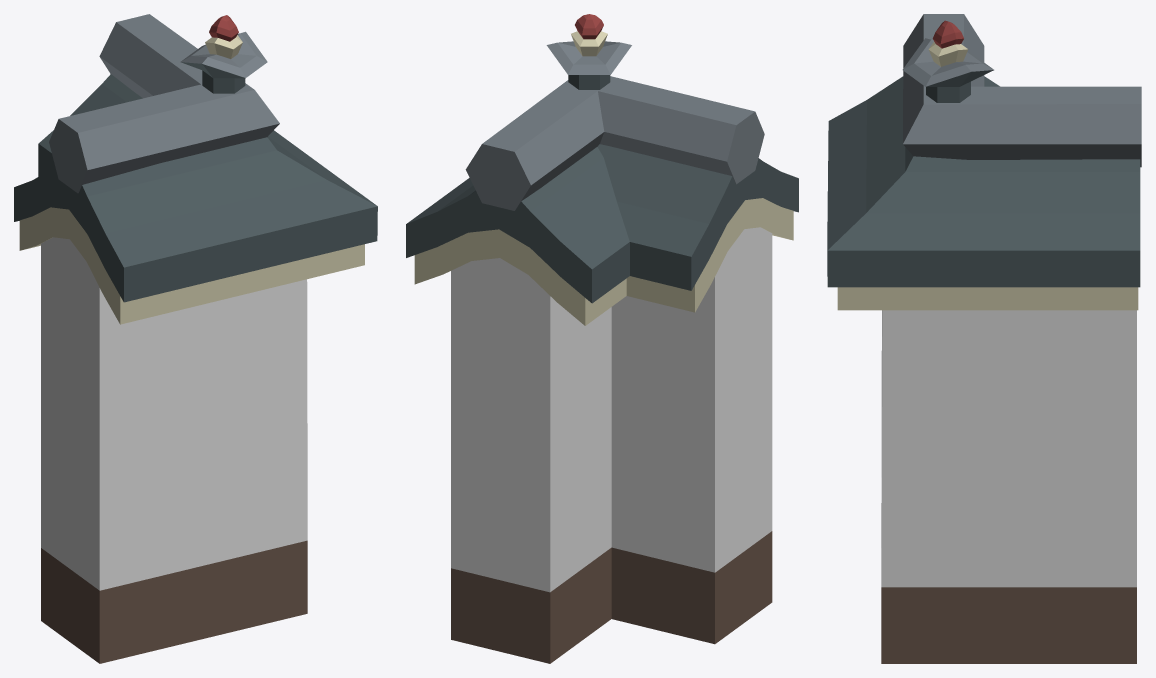
Rendered from corner-wall.glb.
3 views of the same model, side by side, from view 1: azimuth 30°, elevation 25°; view 2: azimuth 150°, elevation 25°; view 3: azimuth 270°, elevation 25° (orthographic). The views are drawn at different scales.
Parts seen in each view (by area): view 1: OWnG_cornerPilaster_01; view 2: OWnG_cornerPilaster_01; view 3: OWnG_cornerPilaster_01.
Part boxes in pixels (bbox=[...]): OWnG_cornerPilaster_01: bbox=[14, 14, 377, 663]; OWnG_cornerPilaster_01: bbox=[406, 14, 798, 663]; OWnG_cornerPilaster_01: bbox=[827, 14, 1141, 663].
Bounding box in the file's own units: 2.94 × 6.48 × 3.
